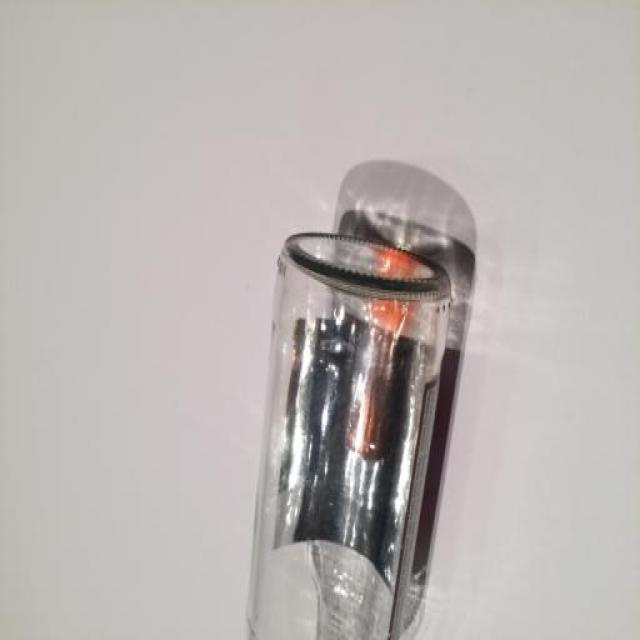Waste: (249, 233, 451, 640)
